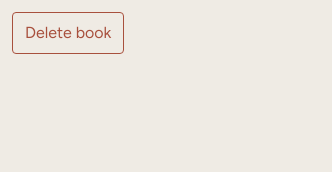
DeleteBookButton › clicking Cancel returns to the initial state without calling the API
What coordinates should you click on to do the following:
click the button "Delete book"
I would click on:
 (68, 33)
Its box is left=12, top=12, right=124, bottom=54.
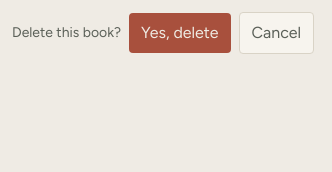
What coordinates should you click on to do the following:
click the button "Cancel"
I would click on:
 (276, 33)
Its box is left=239, top=12, right=314, bottom=54.
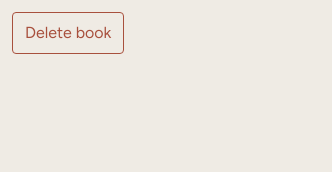
Result: the button "Delete book" is shown at left=12, top=12, right=124, bottom=54
